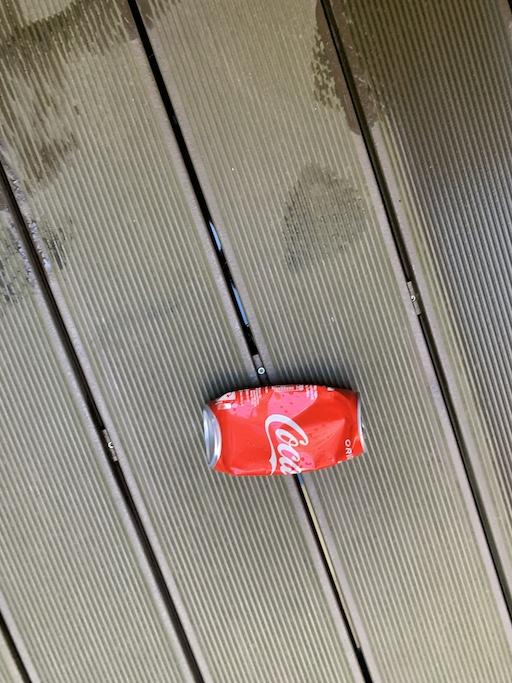Aluminum can: (192, 371, 394, 488)
